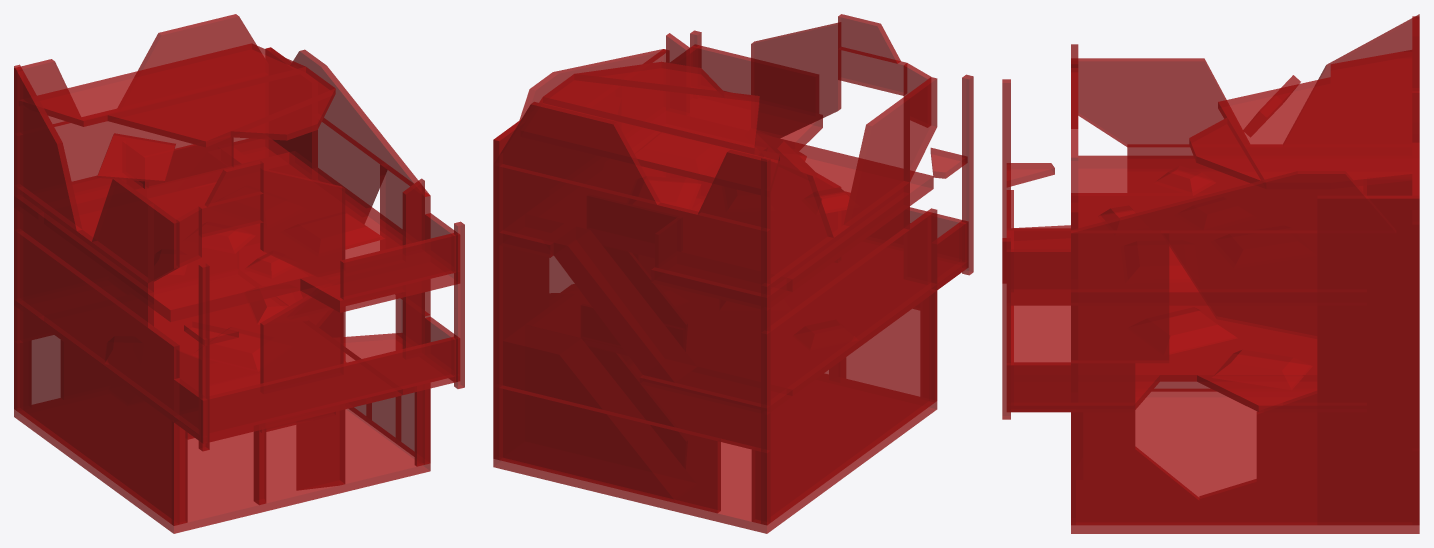
Rendered from SM_Bld_Shop_04_Destroyed_Collision.fbx.
3 renders of one model, left to right at view 1: azimuth 30°, elevation 25°; view 2: azimuth 150°, elevation 25°; view 3: azimuth 270°, elevation 25°, orthographic. The views are drawn at different scales.
Visible parts, largest first — view 1: SM_Bld_Shop_04_Destroyed_Collision; view 2: SM_Bld_Shop_04_Destroyed_Collision; view 3: SM_Bld_Shop_04_Destroyed_Collision.
Part boxes in pixels (x1,y1,x2,y2): SM_Bld_Shop_04_Destroyed_Collision: (14, 14, 464, 533); SM_Bld_Shop_04_Destroyed_Collision: (493, 14, 973, 533); SM_Bld_Shop_04_Destroyed_Collision: (1002, 14, 1419, 533).
Size of the model in its own units: 915 by 1171 by 1156.
